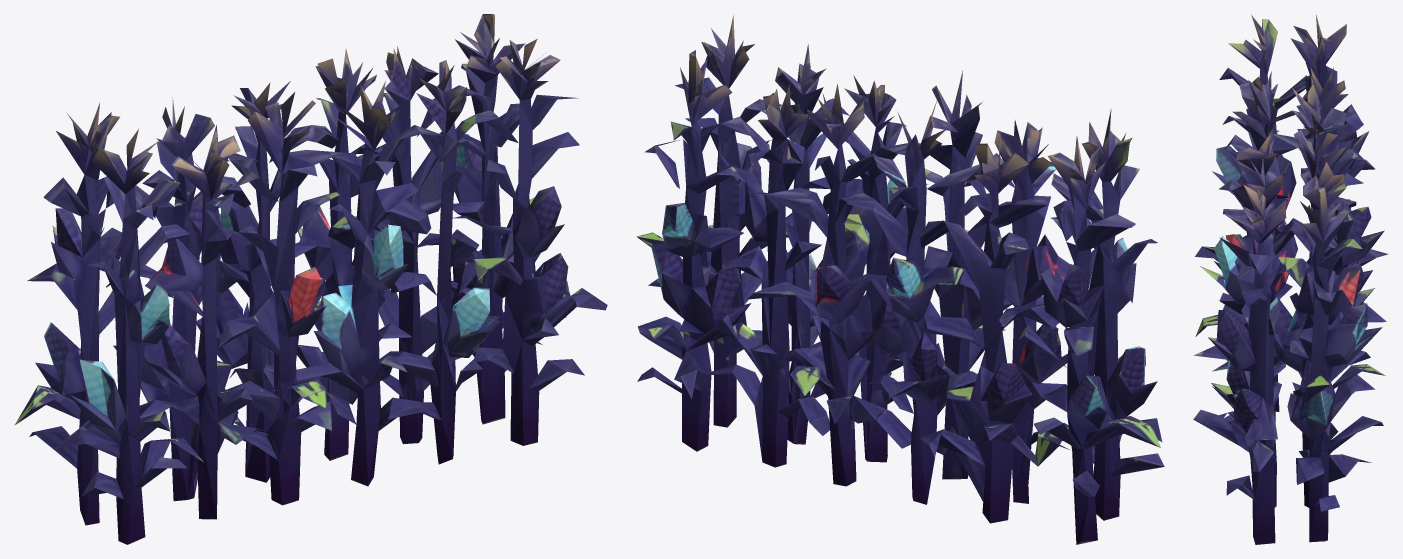
File: corn_wall.glb
3 views of the same model, side by side, from view 1: azimuth 30°, elevation 25°; view 2: azimuth 150°, elevation 25°; view 3: azimuth 270°, elevation 25° (orthographic). The views are drawn at different scales.
Size of the model in its own units: 1.9 by 1.35 by 0.658.
1 material, 1 textured.
